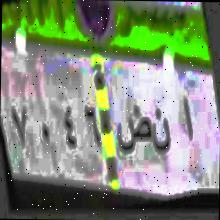0: (40, 113, 50, 153)
4: (62, 102, 77, 156)
6: (82, 102, 102, 152)
7: (10, 100, 28, 148)
alif: (178, 91, 196, 141)
daad: (116, 104, 152, 160)
noon: (150, 104, 170, 163)
